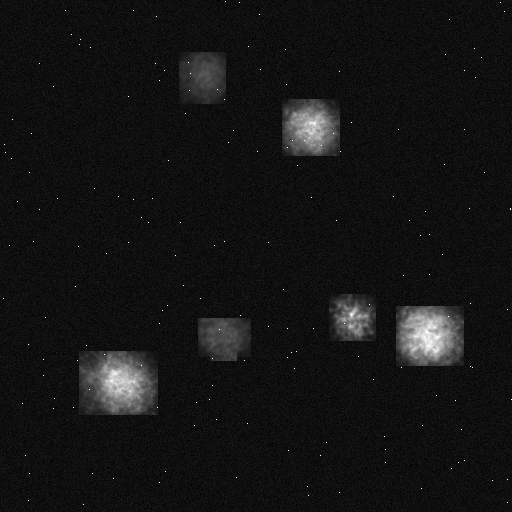lam1: (329, 294, 375, 340)
lam3: (79, 351, 157, 414), (396, 306, 463, 365), (282, 99, 339, 155), (179, 52, 225, 103), (198, 318, 250, 356), (210, 330, 236, 360)
